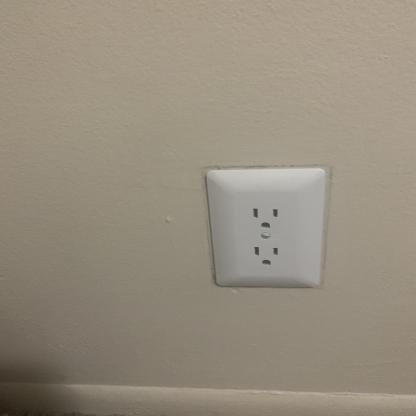OUTLET: (207, 168, 326, 288)
